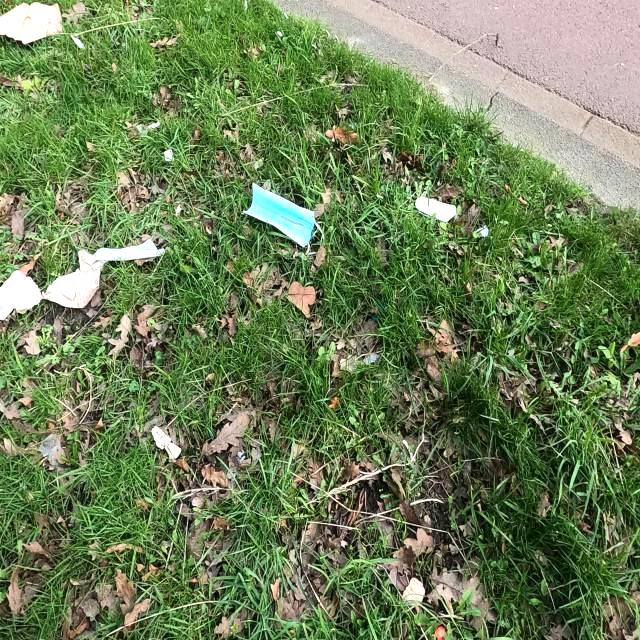Mask: (241, 181, 325, 255)
Paper: (94, 236, 166, 262), (415, 194, 457, 223)
